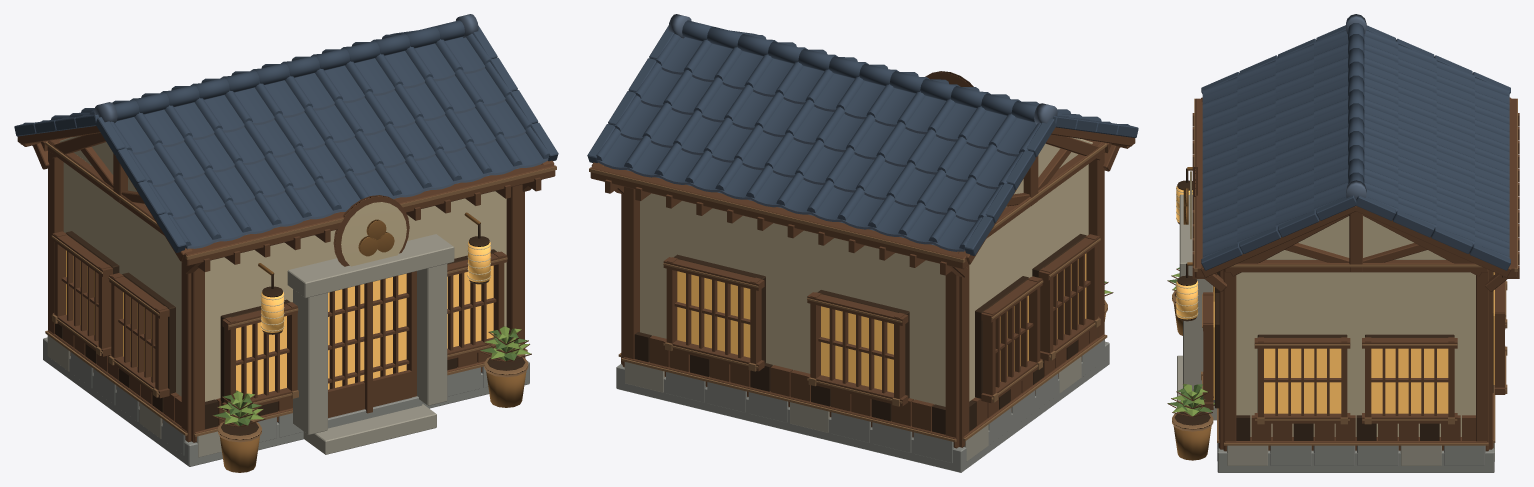
The picture shows the model from 3 angles, left to right: view 1: azimuth 30°, elevation 25°; view 2: azimuth 150°, elevation 25°; view 3: azimuth 270°, elevation 25°; orthographic projection. The views are drawn at different scales.
Visible parts, largest first — view 1: compact_vault_bank_geometry, compact_vault_bank_geometry ceramic; view 2: compact_vault_bank_geometry, compact_vault_bank_geometry ceramic; view 3: compact_vault_bank_geometry, compact_vault_bank_geometry ceramic.
Boxes of the visible parts, <box> form: compact_vault_bank_geometry: <box>17,126,556,472</box>; compact_vault_bank_geometry ceramic: <box>14,14,558,252</box>; compact_vault_bank_geometry: <box>589,71,1135,472</box>; compact_vault_bank_geometry ceramic: <box>587,14,1138,255</box>; compact_vault_bank_geometry: <box>1167,97,1519,472</box>; compact_vault_bank_geometry ceramic: <box>1201,14,1510,270</box>.
Bounding box in the file's own units: 1.04 × 0.8141 × 0.8823.
